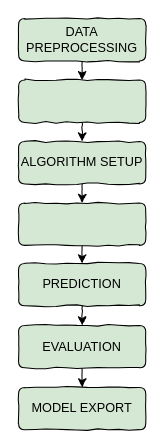
Some shapes in this 164 by 448 pixel diagram are drawn without their labels. The box of each missing label's shape, as (x1, y1, x2, y2) in pixels:
MODEL FITTING: (17, 202, 146, 245)
TRAIN/TEST SPLIT: (17, 79, 146, 122)
